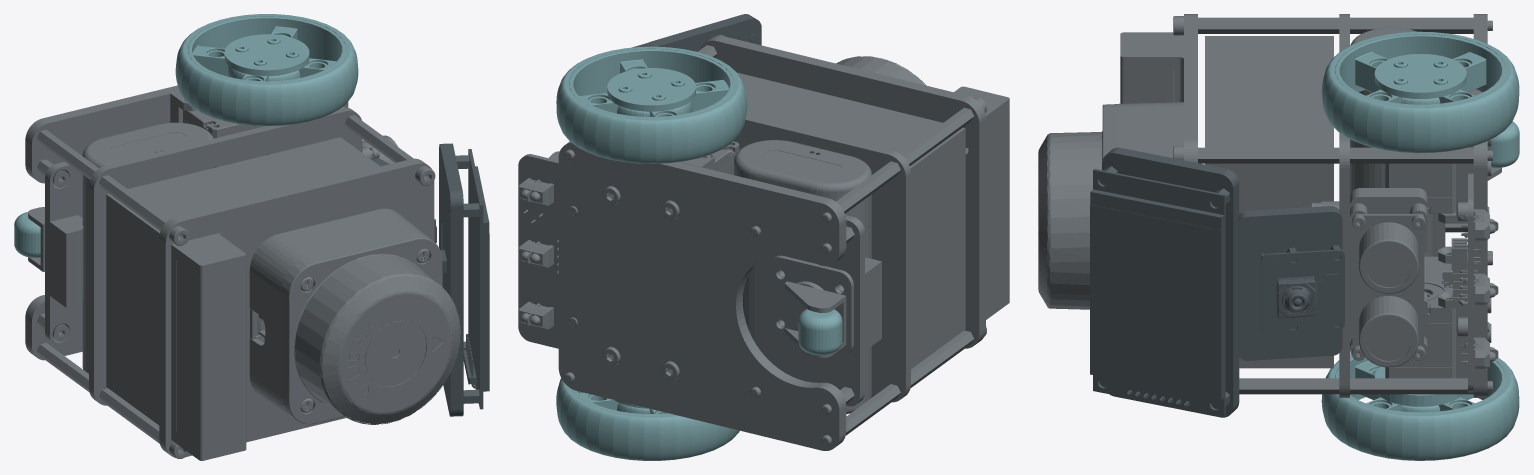
The model's file is robot.glb.
3 renders of one model, left to right at view 1: azimuth 30°, elevation 25°; view 2: azimuth 150°, elevation 25°; view 3: azimuth 270°, elevation 25°, orthographic. The views are drawn at different scales.
Parts seen in each view (by area): view 1: base_link, rplidar_mount, l_wheel, robot_lamp, screen_mount, caster_wheel, caster_roate_link; view 2: base_link, l_wheel, r_wheel, robot_lamp, caster_mount_link, caster_roate_link, screen_mount, caster_wheel, rplidar_mount; view 3: base_link, screen_mount, l_wheel, front_camera_mount, rplidar_mount, r_wheel, robot_lamp, caster_wheel.
Part boxes in pixels (<box>): base_link: <box>25,85,442,460</box>; rplidar_mount: <box>249,208,460,424</box>; l_wheel: <box>175,14,358,126</box>; robot_lamp: <box>176,260,246,448</box>; screen_mount: <box>439,143,489,416</box>; caster_wheel: <box>14,212,40,257</box>; caster_roate_link: <box>28,207,44,271</box>; base_link: <box>518,34,1009,450</box>; l_wheel: <box>556,46,747,163</box>; r_wheel: <box>556,378,739,460</box>; robot_lamp: <box>965,111,1009,307</box>; caster_mount_link: <box>768,255,853,355</box>; caster_roate_link: <box>784,281,846,357</box>; screen_mount: <box>632,14,761,51</box>; caster_wheel: <box>798,309,842,355</box>; rplidar_mount: <box>836,56,926,85</box>; base_link: <box>1120,14,1498,397</box>; screen_mount: <box>1090,147,1239,417</box>; l_wheel: <box>1321,31,1519,153</box>; front_camera_mount: <box>1239,206,1344,360</box>; rplidar_mount: <box>1038,102,1183,309</box>; r_wheel: <box>1321,353,1519,460</box>; robot_lamp: <box>1120,69,1174,103</box>; caster_wheel: <box>1487,121,1519,167</box>.
Bounding box in the file's own units: 0.118 × 0.1101 × 0.1362.
